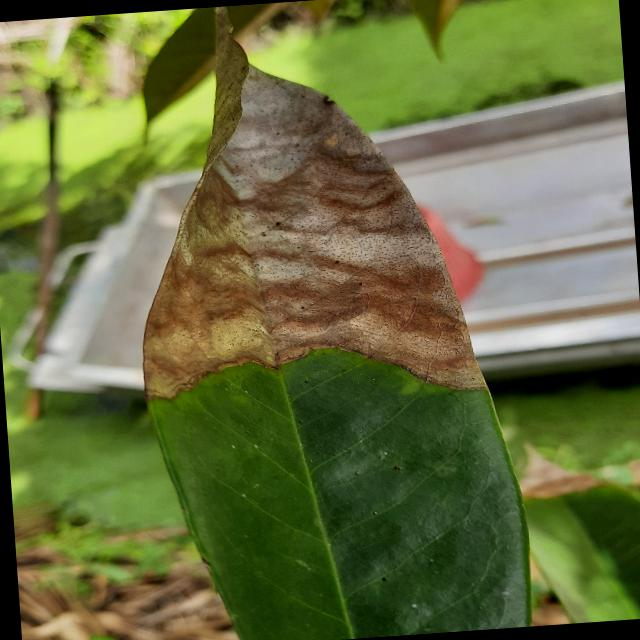Leaf Blight: (113, 0, 545, 639)
